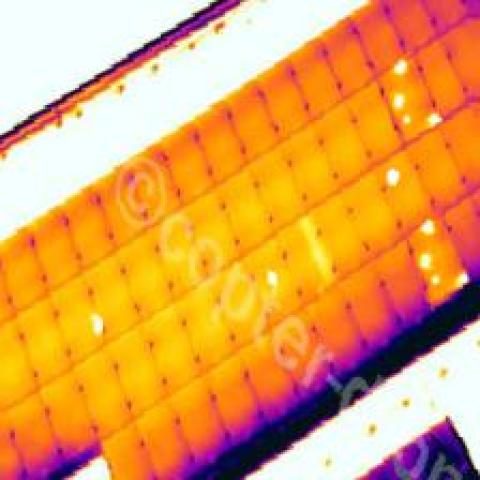fault: (86, 306, 107, 341), (381, 165, 405, 191), (416, 214, 437, 238), (263, 268, 283, 293), (390, 56, 411, 79), (450, 268, 471, 291), (386, 90, 407, 109), (416, 249, 433, 272), (422, 110, 446, 126), (428, 270, 442, 291), (398, 112, 414, 126)
